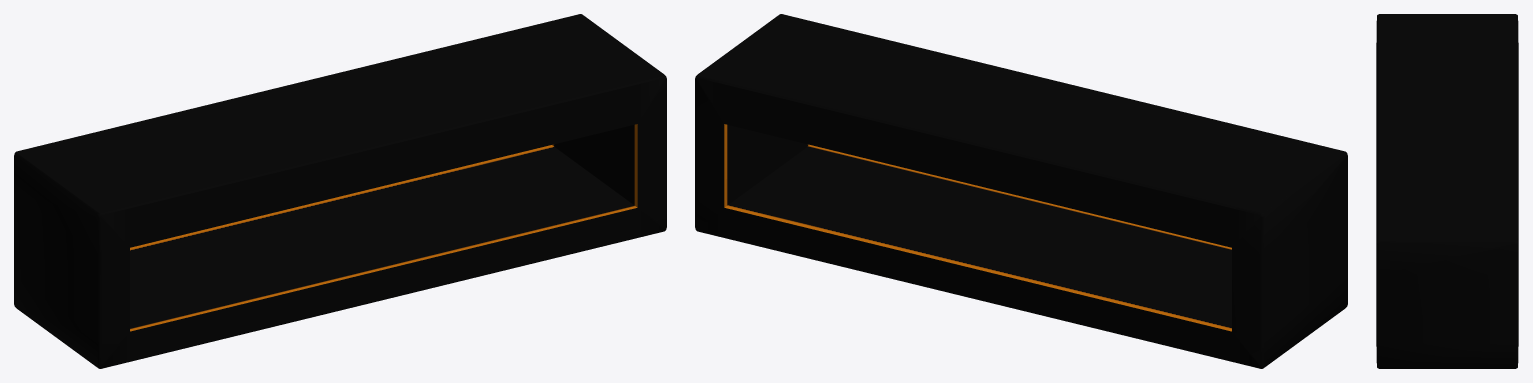
Rendered from Buffet.fbx.
3 renders of one model, left to right at view 1: azimuth 30°, elevation 25°; view 2: azimuth 150°, elevation 25°; view 3: azimuth 270°, elevation 25°, orthographic. The views are drawn at different scales.
Parts seen in each view (by area): view 1: Buffet_1; view 2: Buffet_1; view 3: Buffet_1.
Boxes of the visible parts, <box> form: Buffet_1: <box>14,14,666,368</box>; Buffet_1: <box>695,14,1347,368</box>; Buffet_1: <box>1376,14,1518,368</box>.
Size of the model in its own units: 435 by 114 by 115.
Materials: 1 (1 with a texture image).
